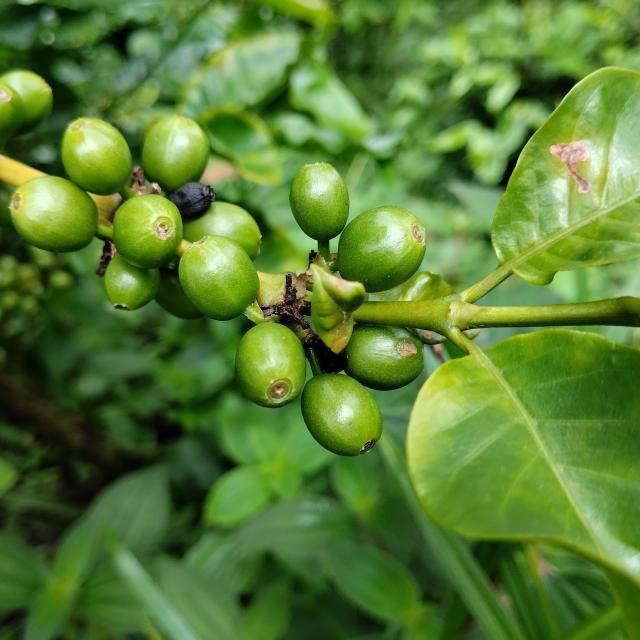green: (178, 235, 264, 324), (337, 206, 426, 292), (9, 175, 97, 252), (301, 374, 382, 457), (235, 322, 306, 408), (61, 117, 131, 195), (344, 324, 424, 391), (112, 194, 182, 269), (141, 114, 209, 191), (290, 162, 349, 242), (182, 201, 261, 259), (0, 68, 52, 132), (104, 254, 160, 311), (154, 270, 203, 320), (0, 82, 24, 143)
